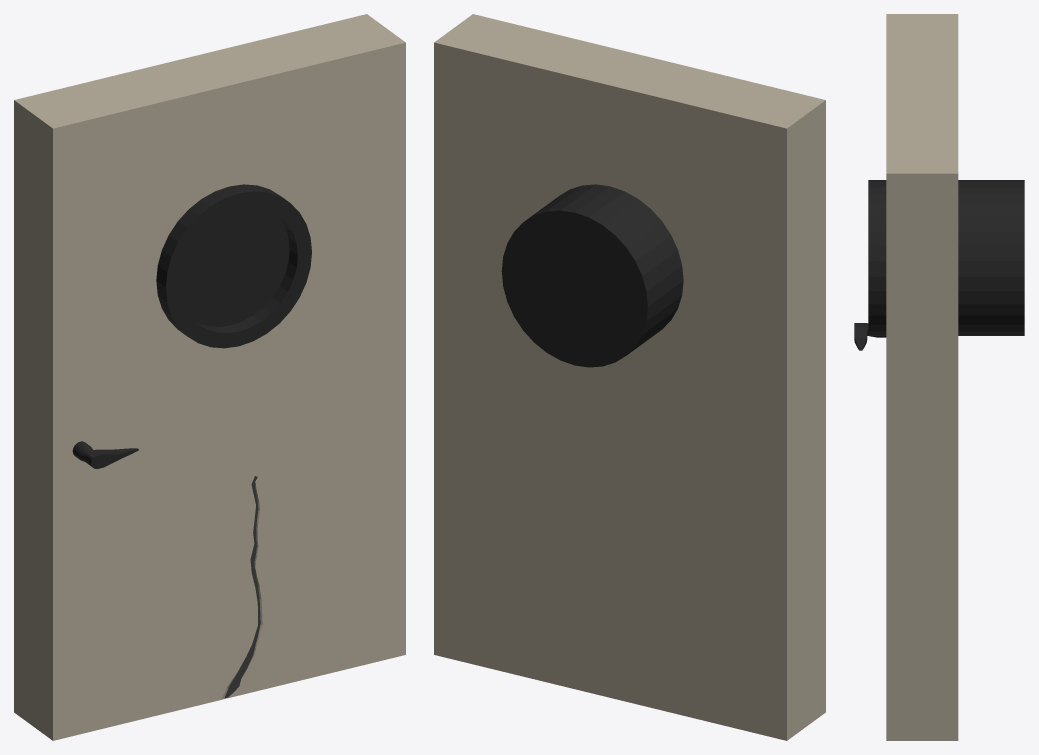
File: porte.fbx
The picture shows the model from 3 angles, left to right: view 1: azimuth 30°, elevation 25°; view 2: azimuth 150°, elevation 25°; view 3: azimuth 270°, elevation 25°; orthographic projection. The views are drawn at different scales.
Visible parts, largest first — view 1: Cube.413, Cylinder.001, Cube.414; view 2: Cube.413, Cylinder.001; view 3: Cube.413, Cylinder.001, Cube.414.
Part boxes in pixels (box(x1,y1,x2,y2)): Cube.413: box(14, 14, 405, 740); Cylinder.001: box(156, 184, 311, 348); Cube.414: box(84, 448, 138, 468); Cube.413: box(434, 14, 825, 740); Cylinder.001: box(501, 184, 683, 367); Cube.413: box(886, 14, 958, 740); Cylinder.001: box(868, 180, 1024, 335); Cube.414: box(854, 323, 867, 350).
Size of the model in its own units: 151 by 250 by 68.23.
